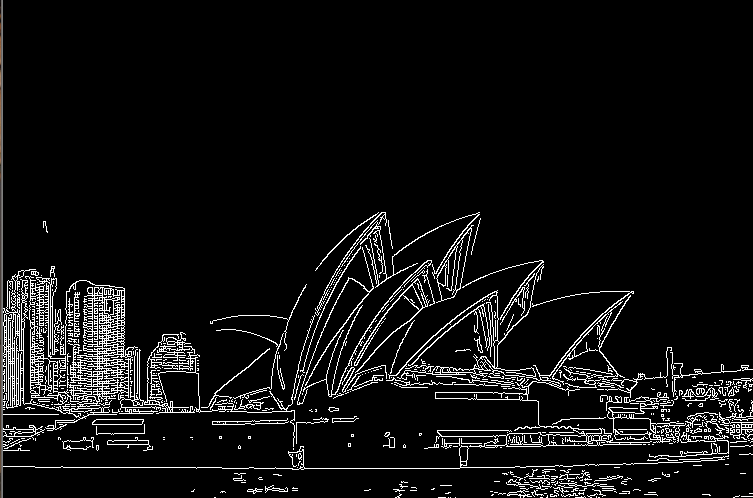opera house: (189, 206, 665, 407)
